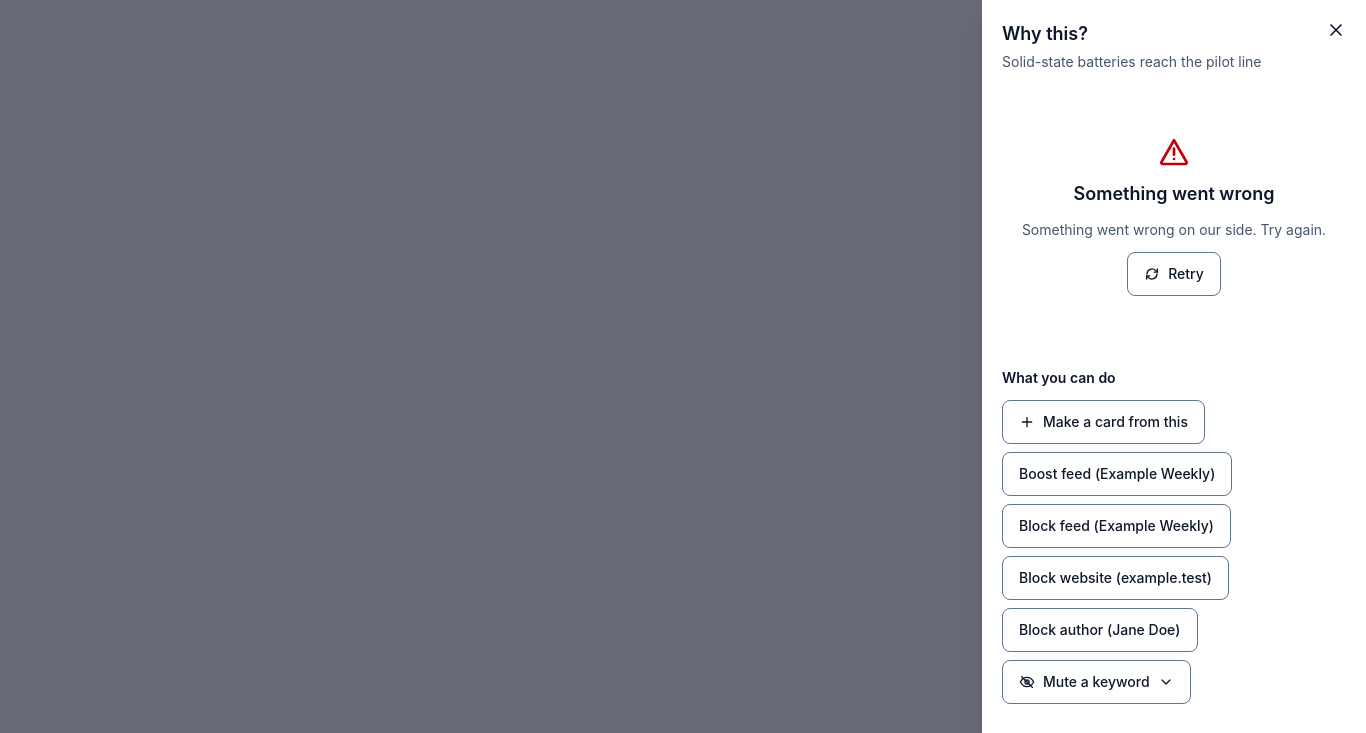
Test: loading the explanation › offers a retry when the detail cannot be loaded and keeps the actions usable
Expected: the message "Something went wrong Something went wrong on our side. Try again. Retry" is shown, x1=1006 y1=88 x2=1342 y2=344
Expected: the button "Make a card from this" is shown, x1=1002 y1=400 x2=1205 y2=444
Step 1. Click the button "Retry" → point(1174, 274), box x1=1127 y1=252 x2=1221 y2=296
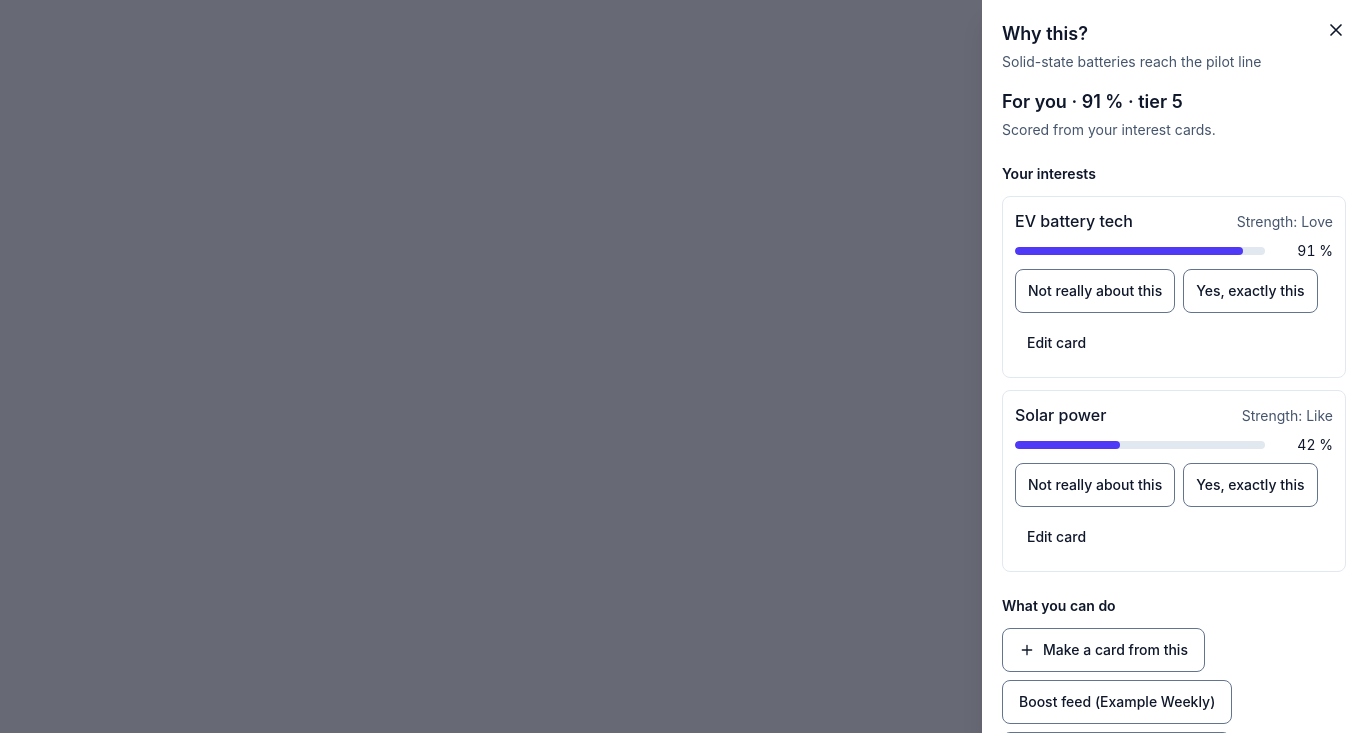
Now the text "For you · 91 % · tier 5" is shown, box x1=1002 y1=91 x2=1183 y2=112
